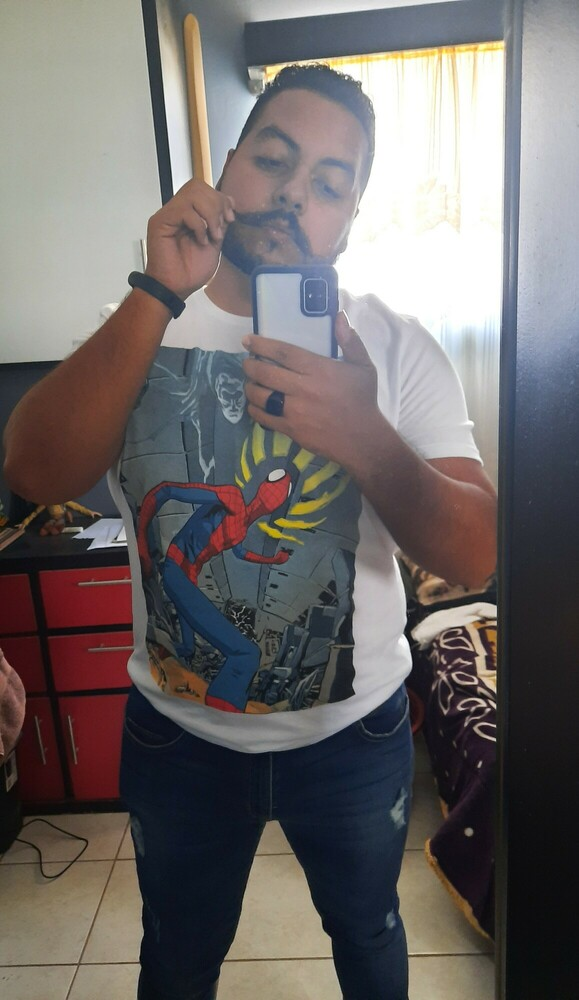Yoshi: (183, 23, 392, 336)
